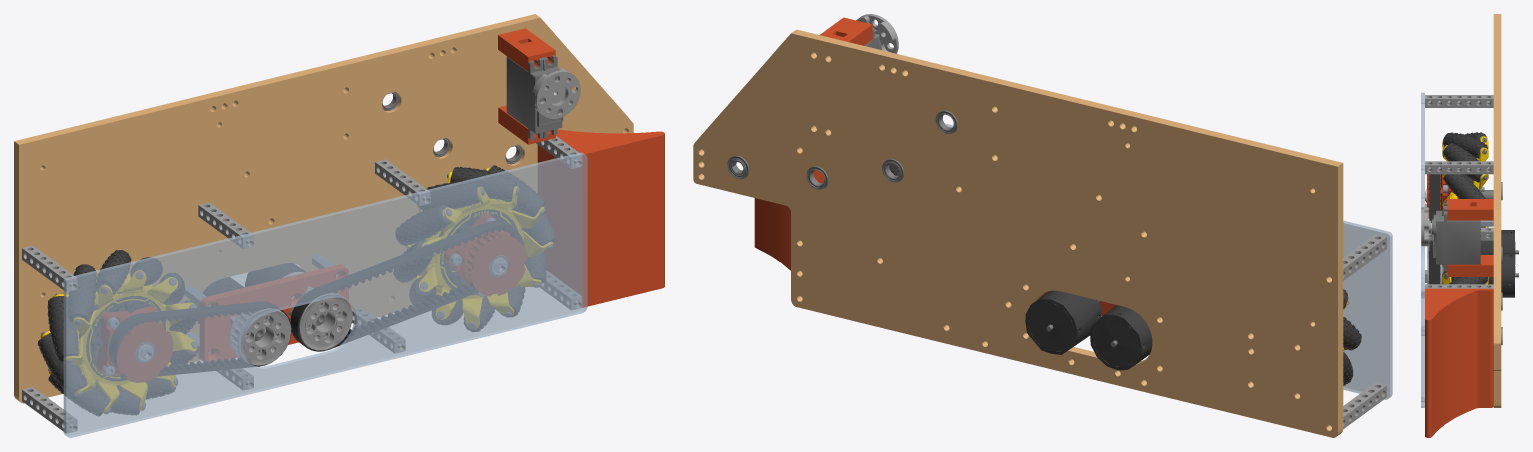
The model's file is right-drive.glb.
3 views of the same model, side by side, from view 1: azimuth 30°, elevation 25°; view 2: azimuth 150°, elevation 25°; view 3: azimuth 270°, elevation 25° (orthographic). The views are drawn at different scales.
Visible parts, largest first — view 1: part-677, part-706, part-705, part-688, part-855, part-722, part-669, part-713, part-828, part-695, part-707, part-708 (+21 smaller); view 2: part-677, part-706, part-700, part-691, part-705, part-671, part-666, part-699, part-682; view 3: part-705, part-677, part-707, part-706, part-699, part-670, part-671, part-689, part-700, part-916, part-884, part-695 (+10 smaller).
Part boxes in pixels (bbox=[...]): part-677: bbox=[14, 14, 633, 403]; part-706: bbox=[63, 152, 587, 437]; part-705: bbox=[537, 129, 664, 307]; part-688: bbox=[290, 221, 523, 351]; part-855: bbox=[64, 270, 196, 413]; part-722: bbox=[419, 186, 553, 328]; part-669: bbox=[200, 264, 348, 362]; part-713: bbox=[444, 213, 526, 295]; part-828: bbox=[96, 306, 172, 382]; part-695: bbox=[109, 301, 291, 376]; part-707: bbox=[506, 55, 563, 140]; part-708: bbox=[229, 308, 291, 365]; part-677: bbox=[693, 29, 1343, 437]; part-706: bbox=[945, 123, 1392, 399]; part-700: bbox=[1025, 290, 1101, 354]; part-691: bbox=[1090, 305, 1152, 370]; part-705: bbox=[754, 170, 824, 270]; part-671: bbox=[1343, 234, 1386, 280]; part-666: bbox=[1343, 382, 1386, 428]; part-699: bbox=[820, 17, 872, 45]; part-682: bbox=[856, 14, 898, 53]; part-705: bbox=[1425, 288, 1493, 437]; part-677: bbox=[1493, 14, 1501, 407]; part-707: bbox=[1431, 203, 1480, 272]; part-706: bbox=[1421, 92, 1424, 407]; part-699: bbox=[1447, 199, 1493, 220]; part-670: bbox=[1425, 161, 1493, 174]; part-671: bbox=[1425, 95, 1493, 107]; part-689: bbox=[1447, 255, 1493, 276]; part-700: bbox=[1480, 253, 1515, 297]; part-916: bbox=[1443, 174, 1485, 198]; part-884: bbox=[1443, 132, 1487, 158]; part-695: bbox=[1429, 174, 1440, 250].
Bounding box in the file's own units: 0.4456 × 0.188 × 0.08.
